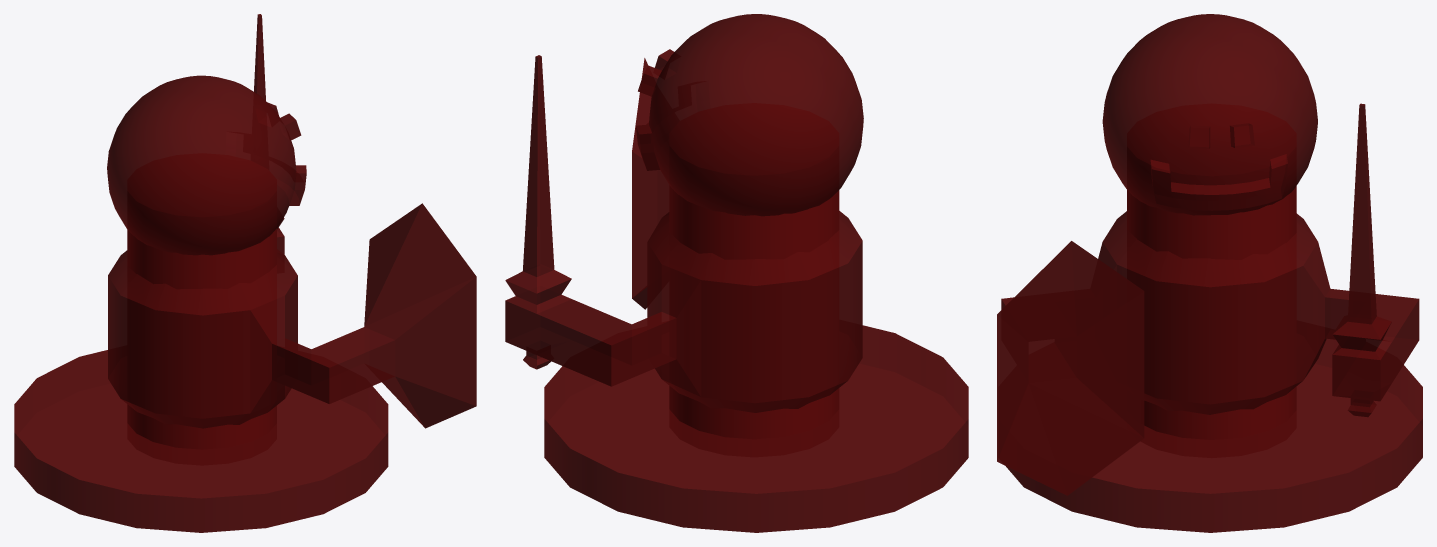
File: RedTeamPeaceSwordSheild.fbx
The picture shows the model from 3 angles, left to right: view 1: azimuth 30°, elevation 25°; view 2: azimuth 150°, elevation 25°; view 3: azimuth 270°, elevation 25°; orthographic projection. The views are drawn at different scales.
Visible parts, largest first — view 1: Body, TreeStump, Base, head; view 2: TreeStump, Base, Body, head; view 3: Body, TreeStump, head, Base.
Part boxes in pixels (bbox=[...]): Body: bbox=[108, 14, 476, 428]; TreeStump: bbox=[127, 153, 276, 464]; Base: bbox=[14, 350, 388, 532]; head: bbox=[107, 75, 306, 255]; TreeStump: bbox=[669, 103, 839, 456]; Base: bbox=[544, 325, 968, 532]; Body: bbox=[505, 55, 862, 412]; head: bbox=[636, 14, 863, 216]; Body: bbox=[997, 103, 1419, 495]; TreeStump: bbox=[1127, 104, 1296, 457]; head: bbox=[1102, 14, 1317, 215]; Base: bbox=[1006, 339, 1422, 532].
Bounding box in the file's own units: 41.39 × 43.53 × 38.88.
